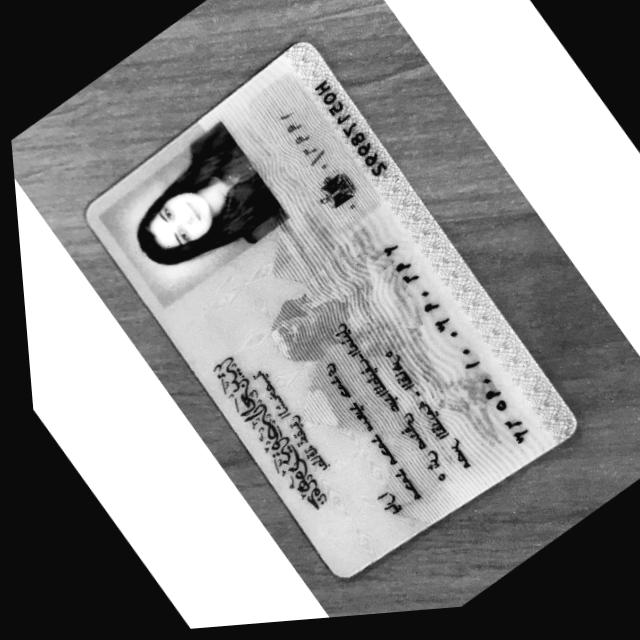front: (71, 29, 592, 608)
